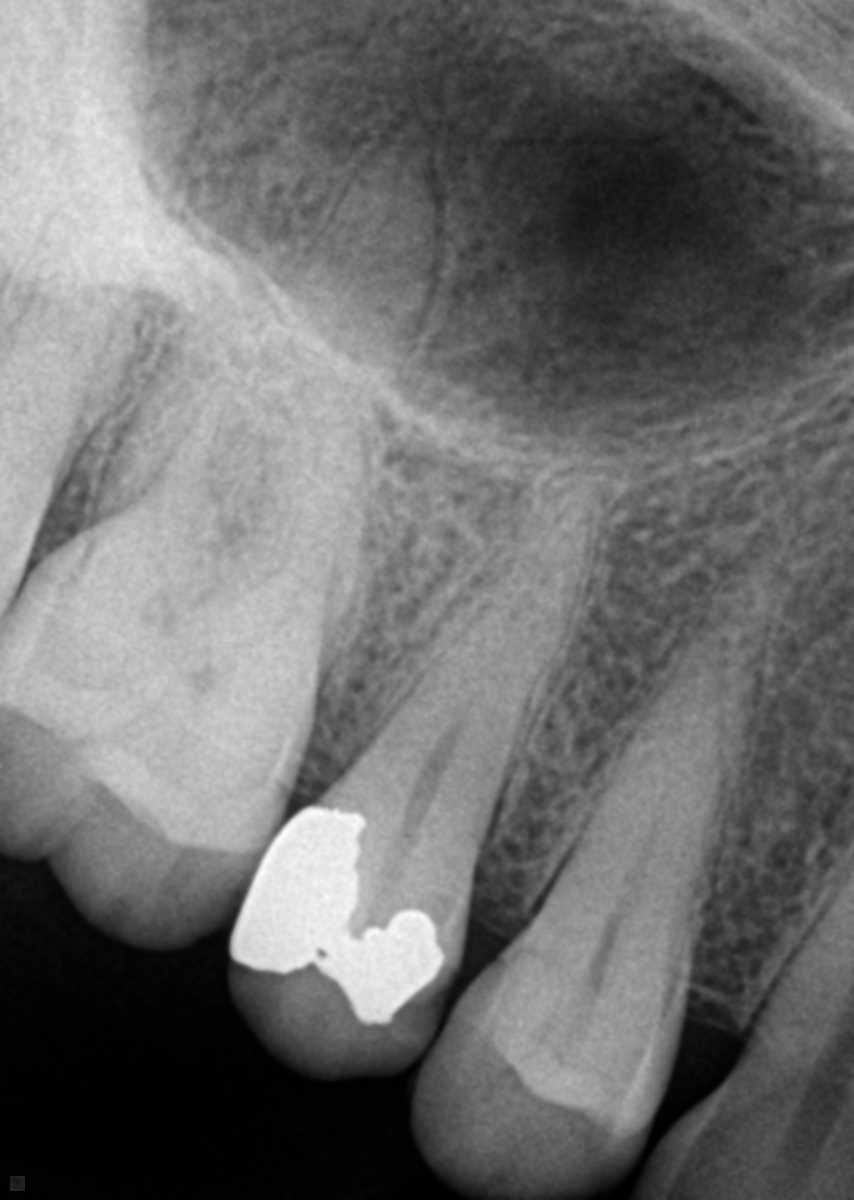Distal Root: (97, 302, 248, 547)
Main Canal: (595, 783, 670, 960), (399, 705, 473, 849), (809, 1004, 853, 1088)
Main Root: (323, 462, 597, 875), (0, 24, 216, 487), (748, 847, 854, 1091)
Mesial Canal: (210, 578, 306, 687)
Mesial Root: (245, 375, 360, 656)
Palatal Root: (134, 112, 447, 621)
